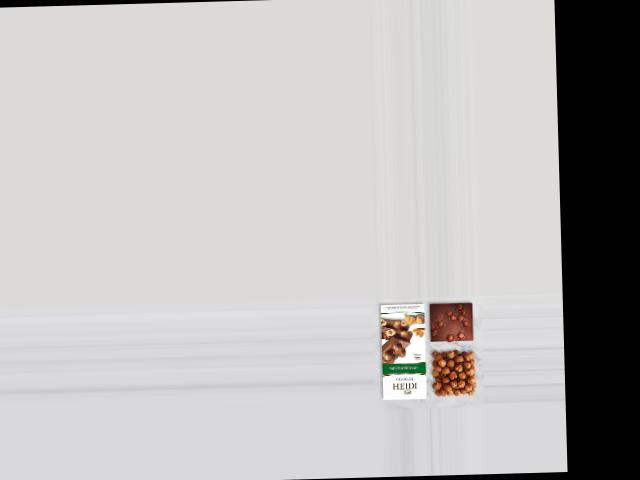chocolate: (427, 300, 478, 342)
